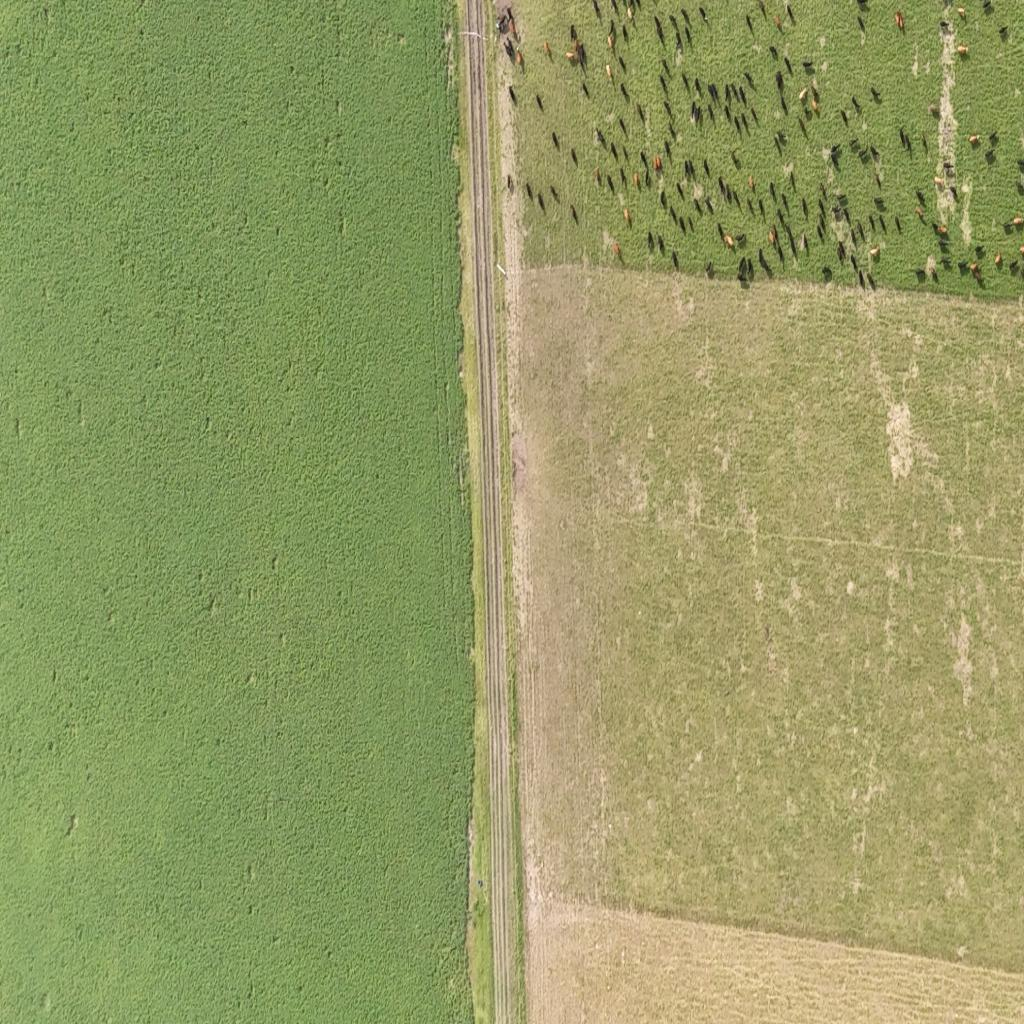cow: (783, 222, 797, 260), (758, 249, 772, 278), (654, 14, 665, 48), (722, 228, 737, 252), (577, 41, 587, 76), (503, 34, 514, 64), (691, 196, 709, 214), (774, 232, 784, 264), (506, 6, 516, 38), (774, 130, 787, 153), (952, 45, 969, 62), (662, 99, 674, 123), (797, 121, 813, 139), (738, 82, 748, 109), (725, 106, 734, 136), (828, 144, 842, 163), (842, 205, 853, 229), (898, 124, 907, 153), (738, 112, 748, 138), (780, 191, 790, 217), (894, 10, 905, 33), (674, 28, 683, 56), (670, 206, 680, 231), (507, 86, 520, 105), (640, 151, 649, 178), (785, 2, 795, 26), (972, 264, 984, 284), (681, 71, 691, 95), (693, 103, 702, 129), (725, 83, 734, 109), (591, 0, 602, 21), (904, 132, 915, 153), (596, 126, 606, 149), (831, 204, 845, 220), (496, 8, 504, 36), (620, 82, 630, 104), (681, 8, 691, 30), (878, 212, 888, 234), (854, 220, 864, 242), (776, 208, 786, 230), (542, 40, 552, 62), (778, 92, 788, 114), (660, 73, 669, 97), (718, 176, 727, 200), (858, 146, 870, 164), (866, 270, 876, 291), (915, 188, 926, 207), (684, 24, 692, 50), (621, 18, 629, 44), (835, 192, 848, 208), (644, 168, 652, 194), (855, 14, 868, 30), (637, 102, 646, 125), (749, 105, 758, 128), (870, 86, 882, 103), (757, 0, 767, 20), (730, 150, 740, 170), (852, 94, 862, 114), (708, 103, 716, 128), (725, 183, 734, 205), (694, 77, 703, 99), (758, 198, 766, 222), (789, 170, 797, 194), (818, 199, 826, 223), (932, 220, 944, 236), (970, 134, 982, 150), (737, 271, 749, 287), (776, 70, 786, 89), (610, 141, 619, 162), (784, 56, 793, 77), (998, 25, 1009, 42), (957, 260, 970, 274), (940, 20, 953, 34), (699, 5, 708, 25), (718, 222, 727, 242), (744, 71, 754, 89), (984, 150, 996, 165), (1009, 256, 1019, 274), (619, 116, 627, 138), (619, 53, 627, 75), (620, 167, 628, 189), (703, 158, 711, 180), (817, 222, 825, 244), (851, 258, 859, 280), (664, 140, 672, 162), (800, 231, 808, 253), (670, 13, 678, 35), (875, 198, 886, 214), (550, 184, 559, 203), (768, 45, 778, 62), (870, 145, 880, 162), (802, 60, 815, 73), (537, 192, 545, 213), (570, 203, 578, 224), (525, 181, 533, 202), (608, 173, 616, 194), (858, 269, 866, 290), (770, 181, 777, 205), (748, 195, 756, 216), (914, 268, 926, 282), (940, 256, 952, 270), (1002, 222, 1016, 234), (656, 152, 664, 173), (822, 266, 833, 281), (705, 261, 714, 279), (610, 0, 619, 18), (840, 108, 849, 126), (711, 81, 720, 99), (660, 188, 667, 211), (581, 80, 589, 100), (506, 174, 514, 194), (684, 214, 692, 234), (677, 182, 685, 202), (608, 30, 616, 50), (774, 14, 784, 30), (850, 136, 860, 152), (737, 256, 747, 272), (869, 245, 880, 259), (982, 0, 993, 14), (869, 214, 876, 236), (746, 14, 753, 36), (943, 161, 954, 175), (571, 31, 578, 53), (836, 246, 845, 263), (662, 58, 670, 77), (688, 157, 696, 176), (802, 196, 808, 221), (683, 157, 689, 182), (798, 87, 808, 102), (570, 146, 577, 167), (658, 234, 665, 255), (894, 215, 902, 233), (920, 132, 928, 150), (875, 172, 883, 190), (811, 78, 819, 96), (838, 238, 846, 256), (706, 197, 714, 215), (949, 186, 958, 202), (856, 0, 868, 12), (801, 106, 813, 118), (929, 103, 940, 116), (666, 122, 677, 135), (552, 130, 559, 150), (672, 251, 679, 271), (995, 254, 1005, 268), (736, 232, 746, 246), (989, 132, 999, 146), (811, 96, 819, 113), (536, 93, 543, 112), (648, 230, 654, 252), (934, 177, 946, 188), (975, 245, 985, 258), (622, 208, 630, 224), (613, 242, 621, 258), (819, 182, 827, 198), (632, 0, 640, 16), (708, 82, 714, 103), (938, 230, 947, 244), (570, 23, 576, 43), (566, 50, 576, 62), (626, 6, 634, 21), (1017, 259, 1024, 276), (769, 229, 776, 246), (651, 153, 657, 172), (916, 206, 924, 220), (605, 64, 612, 80), (595, 167, 601, 185), (747, 256, 753, 274), (860, 30, 866, 48), (516, 50, 522, 68), (633, 172, 640, 187), (932, 268, 939, 283), (958, 7, 966, 18), (748, 175, 754, 189), (970, 262, 978, 272), (1019, 182, 1024, 196), (1019, 160, 1024, 172), (1018, 216, 1024, 226), (1021, 246, 1024, 256)
